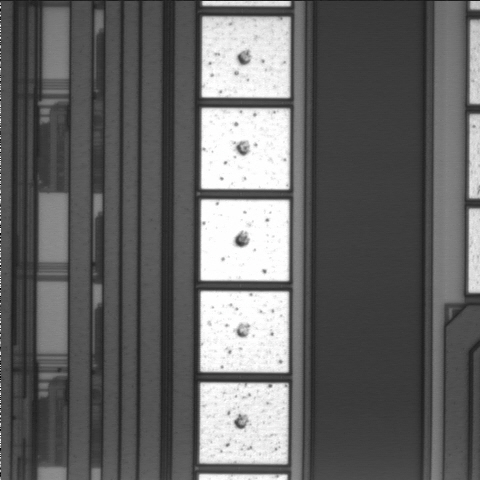pad: (201, 108, 290, 190), (200, 199, 289, 281), (200, 291, 289, 373), (199, 383, 288, 464), (202, 17, 290, 98)
